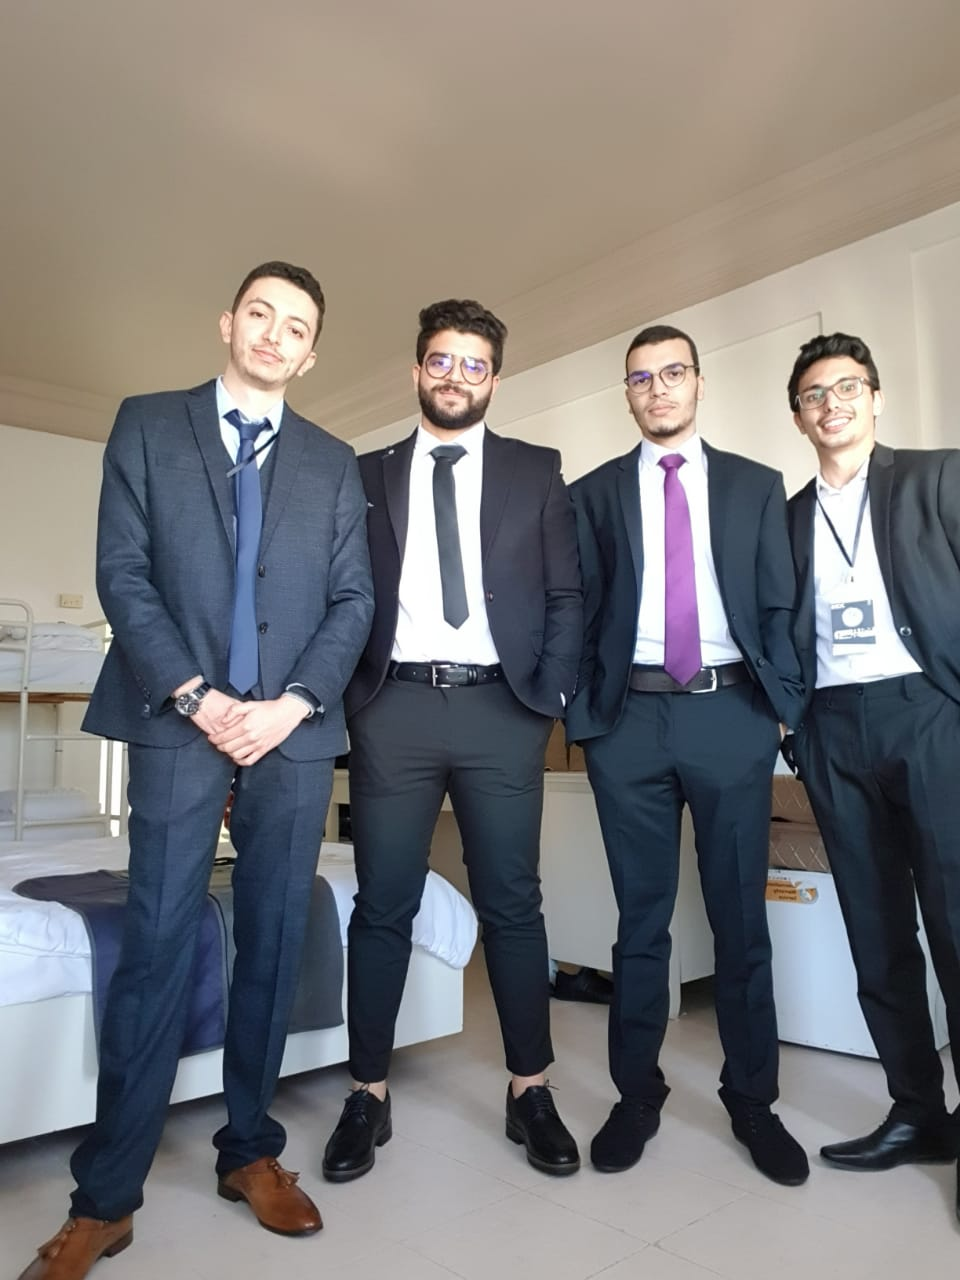without_mask: (794, 371, 875, 440), (240, 296, 313, 374), (423, 347, 491, 418), (621, 360, 696, 419)
